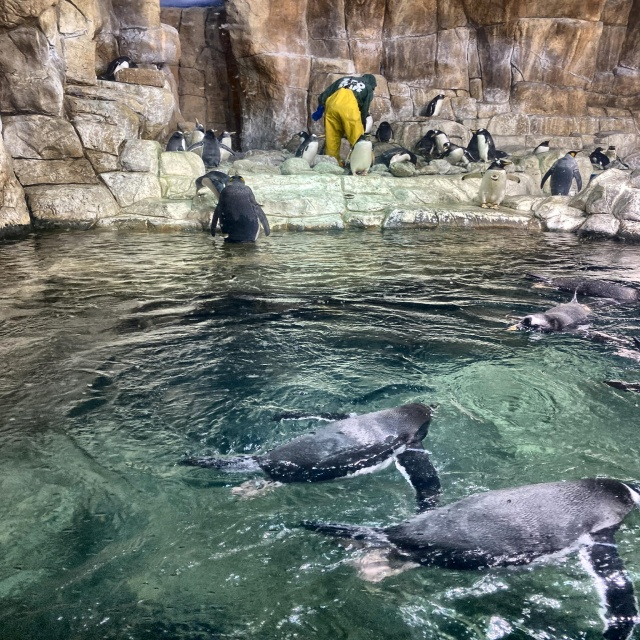penguin: (351, 472, 634, 596), (192, 398, 445, 495), (501, 292, 600, 344), (213, 174, 270, 246), (467, 158, 518, 210), (545, 144, 582, 205), (471, 127, 505, 163), (200, 130, 228, 170), (292, 131, 324, 164), (215, 128, 242, 167), (166, 127, 191, 162), (104, 54, 133, 82), (427, 89, 450, 122), (191, 116, 209, 156), (588, 144, 610, 175), (603, 140, 625, 168), (433, 131, 454, 157), (375, 120, 396, 146), (532, 139, 554, 159)
